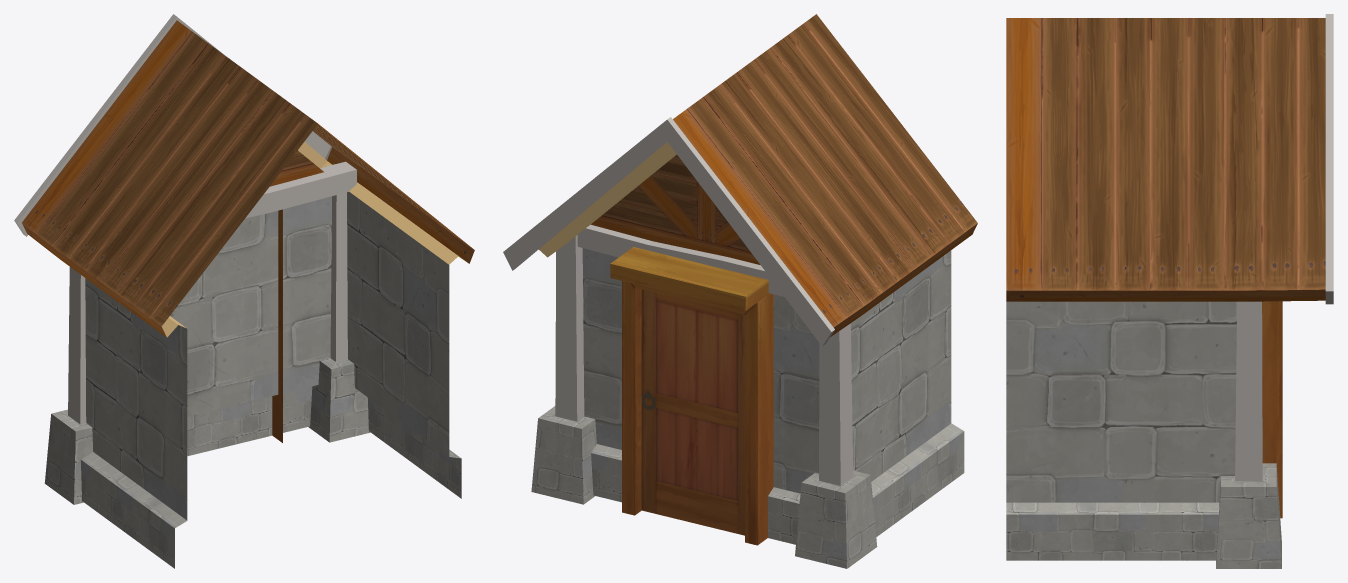
The model's file is Windmill Door_A_01.fbx.
3 renders of one model, left to right at view 1: azimuth 30°, elevation 25°; view 2: azimuth 150°, elevation 25°; view 3: azimuth 270°, elevation 25°, orthographic. The views are drawn at different scales.
Parts seen in each view (by area): view 1: Windmill_Door_A_01; view 2: Windmill_Door_A_01; view 3: Windmill_Door_A_01.
Part boxes in pixels (x1,y1,x2,y2): Windmill_Door_A_01: [14, 14, 474, 568]; Windmill_Door_A_01: [503, 14, 977, 568]; Windmill_Door_A_01: [1006, 14, 1333, 568].
Size of the model in its own units: 559 by 697 by 440.
